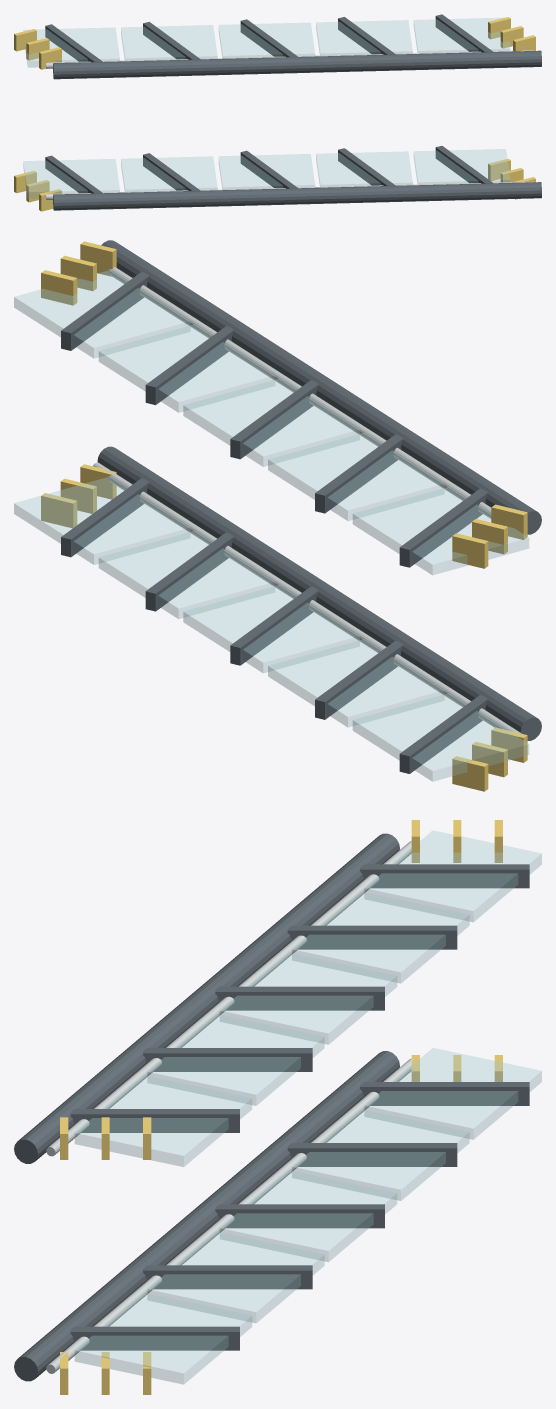
File: gridlock_escalator_railings.glb
3 renders of one model, top to bottom at view 1: azimuth 30°, elevation 25°; view 2: azimuth 150°, elevation 25°; view 3: azimuth 270°, elevation 25°, orthographic. The views are drawn at different scales.
Parts seen in each view (by area): view 1: Escalator_Railing_glass, Escalator_Railing_frame, Escalator_Railing_gold, Escalator_Railing_steel; view 2: Escalator_Railing_glass, Escalator_Railing_frame, Escalator_Railing_gold, Escalator_Railing_steel; view 3: Escalator_Railing_glass, Escalator_Railing_frame, Escalator_Railing_steel, Escalator_Railing_gold.
Part boxes in pixels (bbox=[...]): Escalator_Railing_glass: bbox=[23, 18, 509, 198]; Escalator_Railing_frame: bbox=[45, 14, 541, 210]; Escalator_Railing_gold: bbox=[14, 17, 535, 211]; Escalator_Railing_steel: bbox=[46, 50, 533, 200]; Escalator_Railing_glass: bbox=[14, 270, 528, 781]; Escalator_Railing_frame: bbox=[61, 240, 541, 773]; Escalator_Railing_gold: bbox=[41, 241, 527, 791]; Escalator_Railing_steel: bbox=[93, 267, 521, 733]; Escalator_Railing_glass: bbox=[75, 830, 541, 1384]; Escalator_Railing_frame: bbox=[14, 833, 529, 1381]; Escalator_Railing_steel: bbox=[46, 841, 413, 1373]; Escalator_Railing_gold: bbox=[60, 820, 502, 1394].
Bounding box in the file's own units: 745 × 279 × 510.
